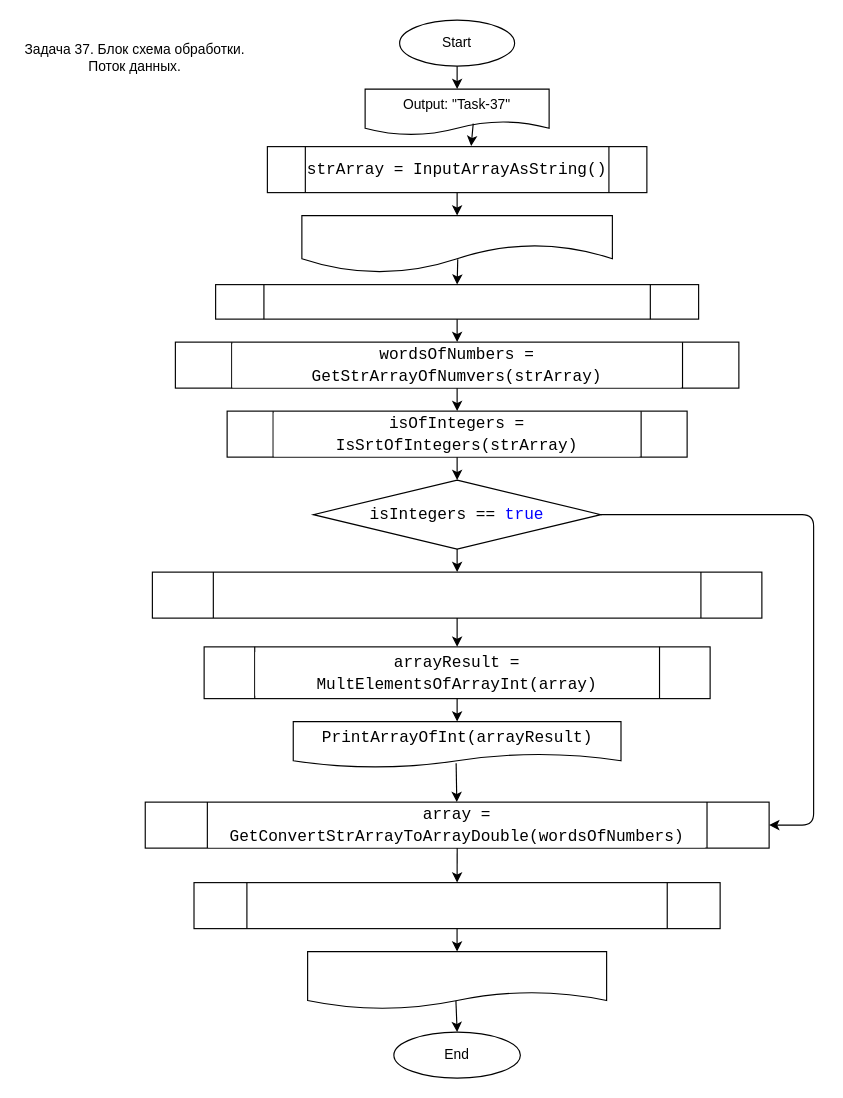
The diagram is 843 pixels wide and 1098 high, and some of its shapes have lost their labels. Here are the shapes that lost their labels. From the top down, the centre of each, then its label:
point (456, 243): Output: strArray
point (456, 301): strArray = GetNormilizeStrArray(strArray)
point (456, 594): array = GetConvertStrArrayToArrayInt(wordsOfNumbers)
point (456, 905): arrayResult = MultElementsOfArrayDouble(array)
point (456, 979): PrintArrayOfDouble(arrayResult)
